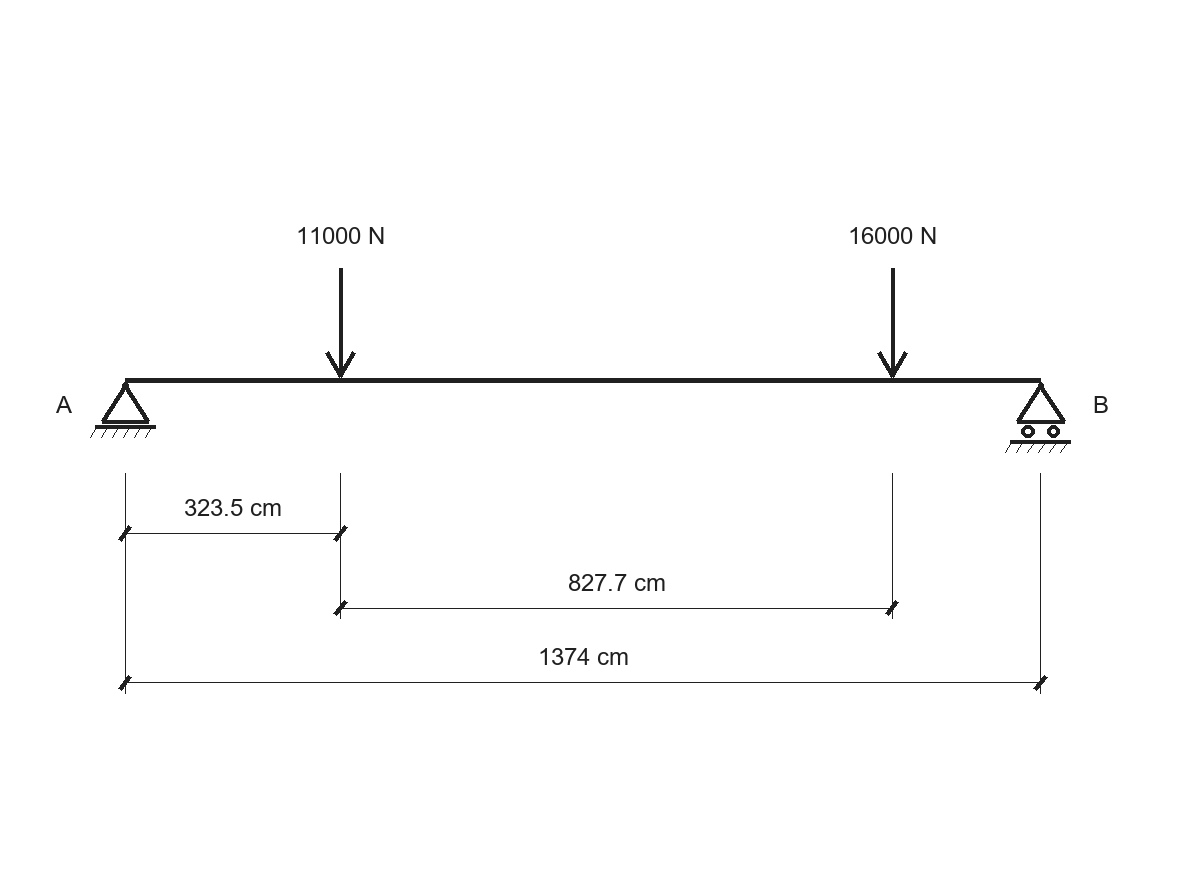pin_support: (90, 382, 156, 438)
point_load: (325, 268, 356, 378), (877, 268, 908, 378)
roller_support: (1005, 382, 1071, 453)
